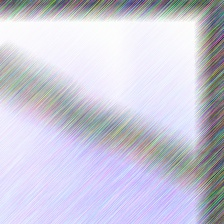Leaf_Blast: (0, 77, 68, 130), (88, 121, 161, 167), (65, 73, 123, 116)
